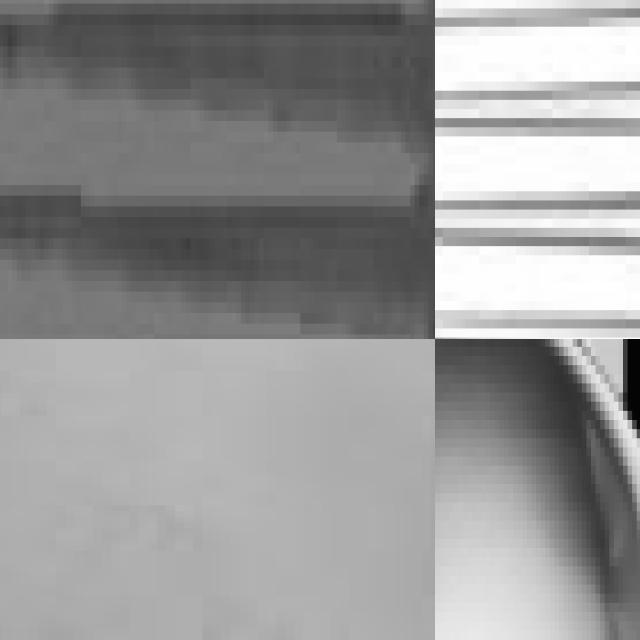forks: (0, 0, 435, 339), (435, 0, 640, 339), (435, 339, 640, 640)
